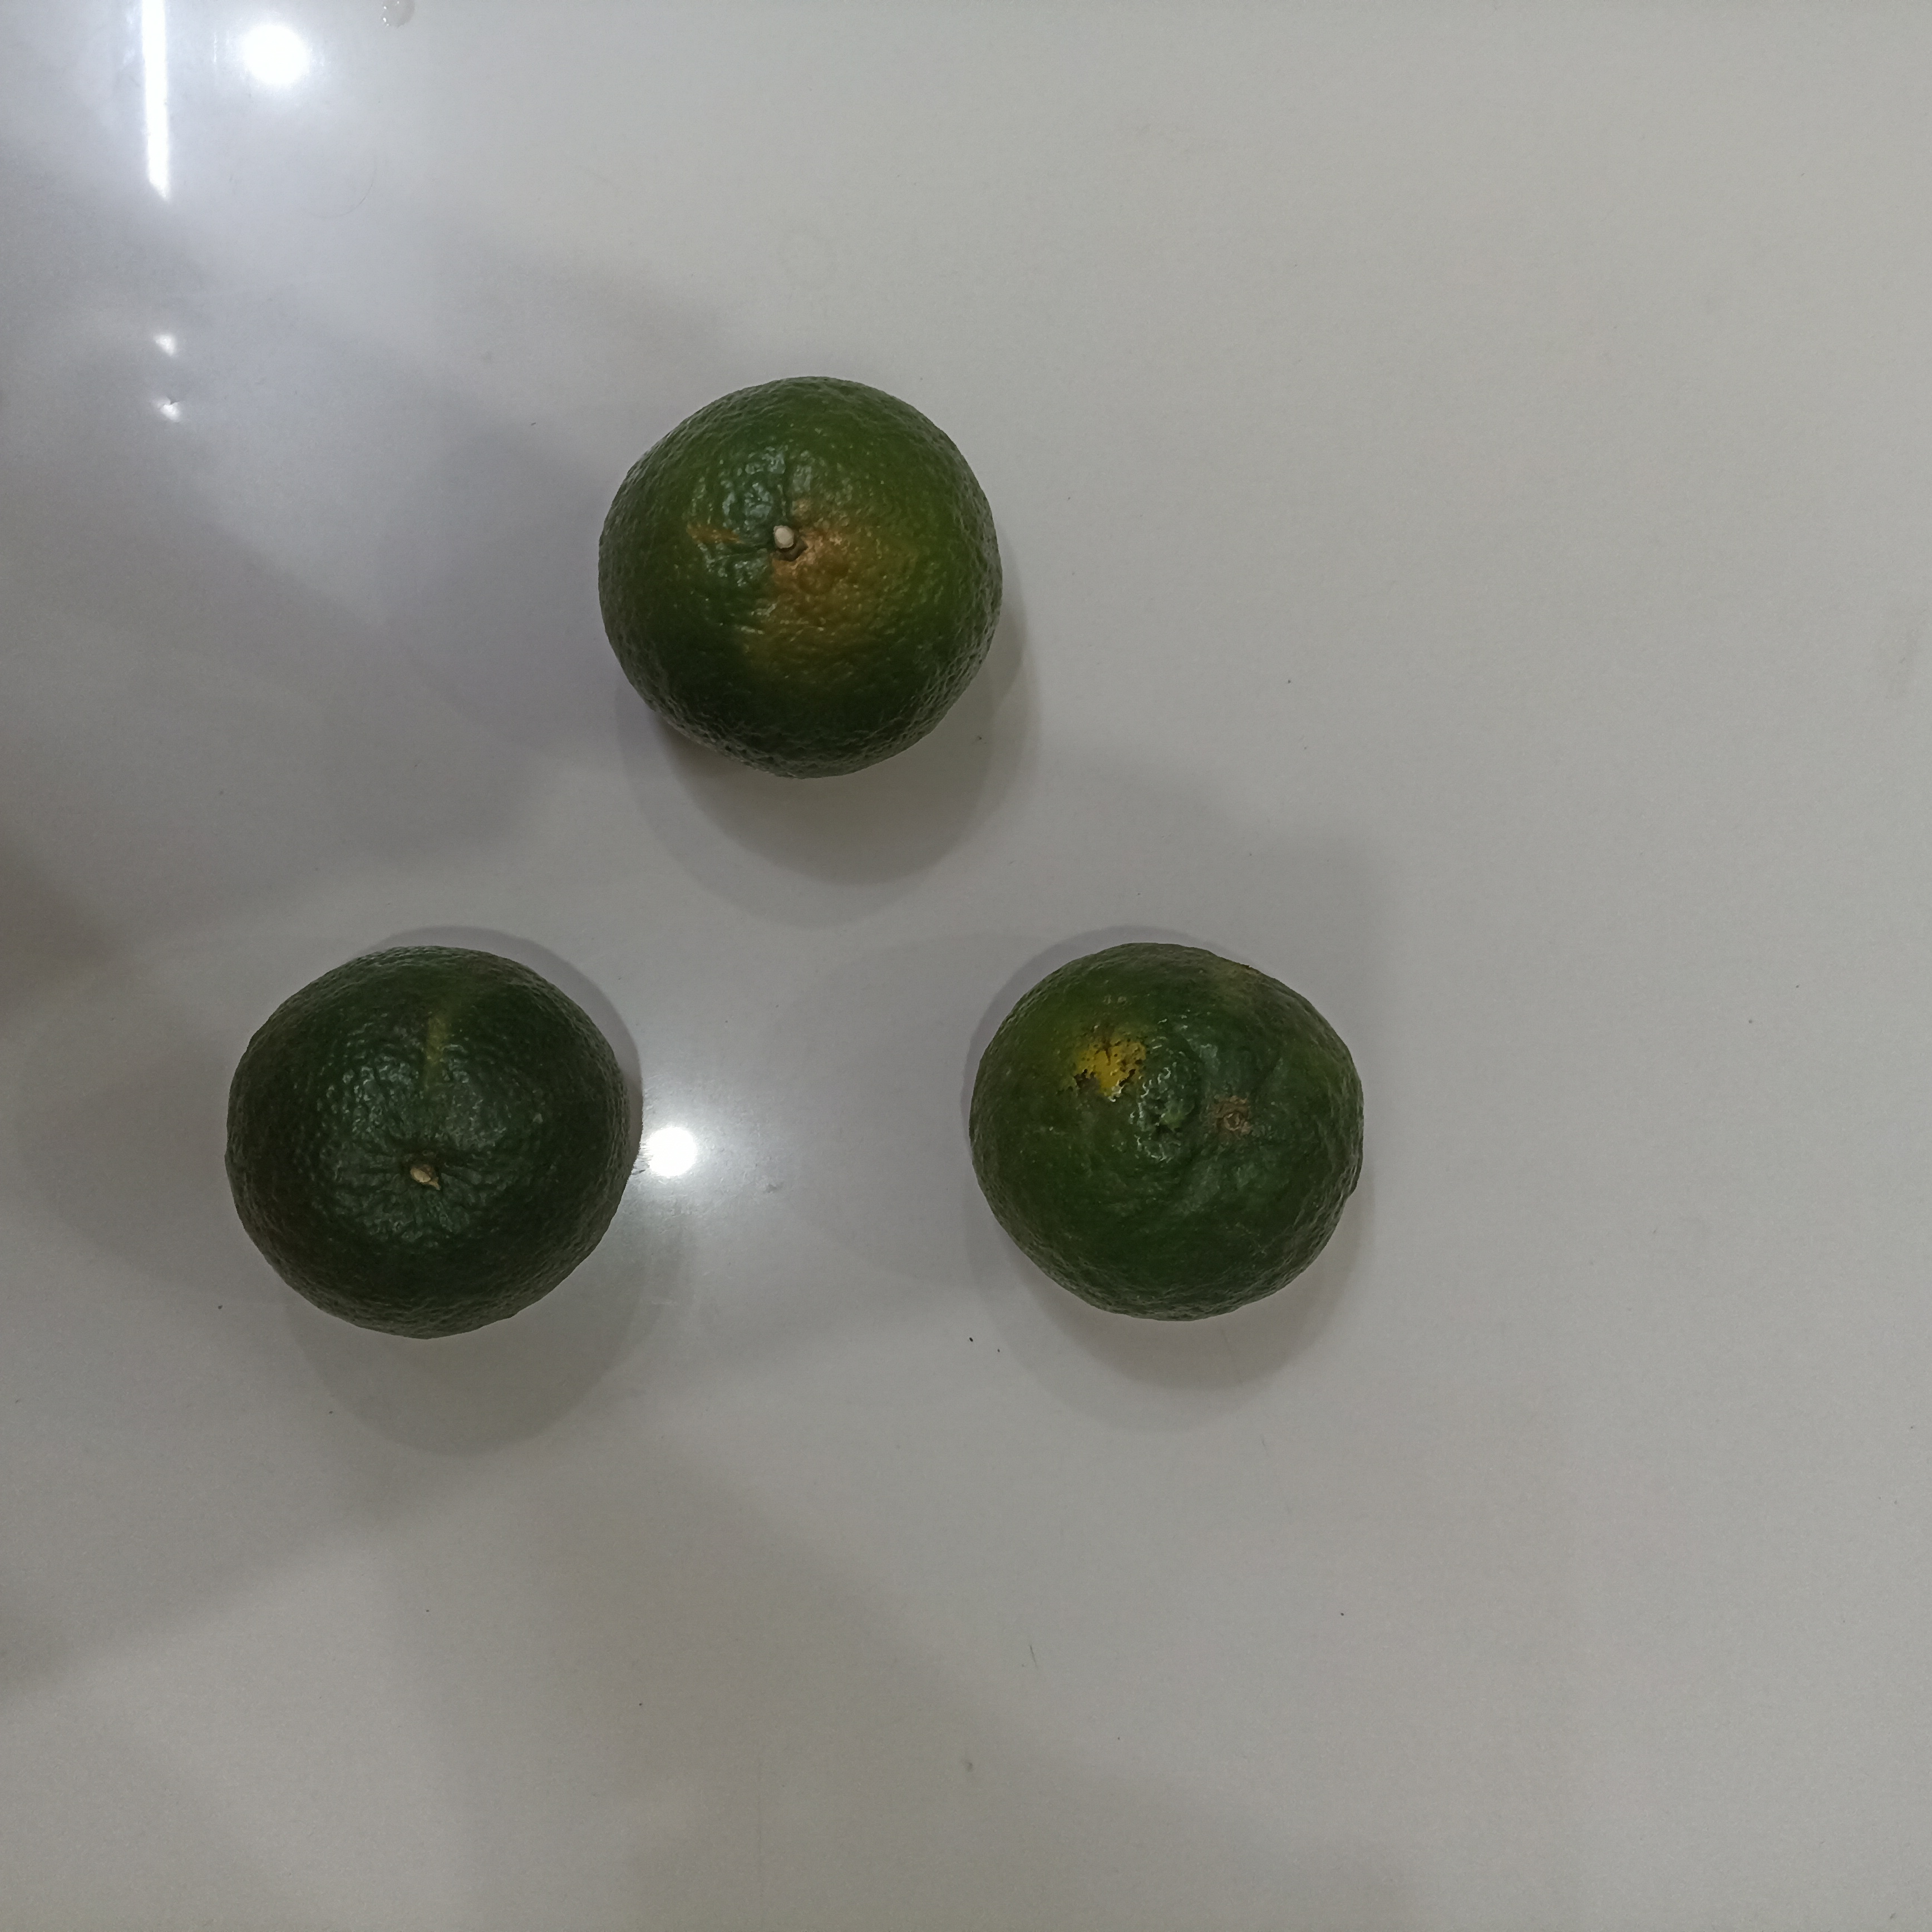Cam: (218, 935, 635, 1355), (593, 364, 1006, 778), (964, 933, 1368, 1319)
